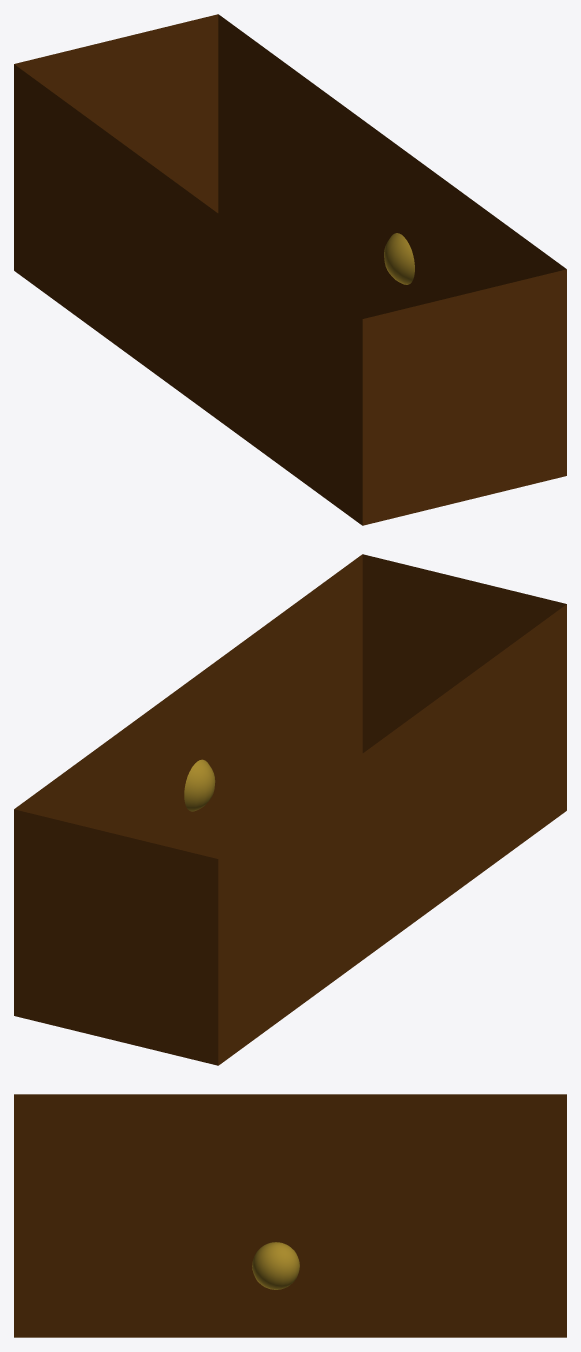
File: draw.fbx
3 renders of one model, top to bottom at view 1: azimuth 30°, elevation 25°; view 2: azimuth 150°, elevation 25°; view 3: azimuth 270°, elevation 25°, orthographic. The views are drawn at different scales.
Parts seen in each view (by area): view 1: bed:cupboards:pCube17; view 2: bed:cupboards:pCube17; view 3: bed:cupboards:pCube17.
Boxes of the visible parts, x1=… form: bed:cupboards:pCube17: x1=14, y1=14, x2=566, y2=525; bed:cupboards:pCube17: x1=14, y1=554, x2=566, y2=1065; bed:cupboards:pCube17: x1=14, y1=1094, x2=566, y2=1337.
Bounding box in the file's own units: 4.33 × 3.52 × 10.77.
